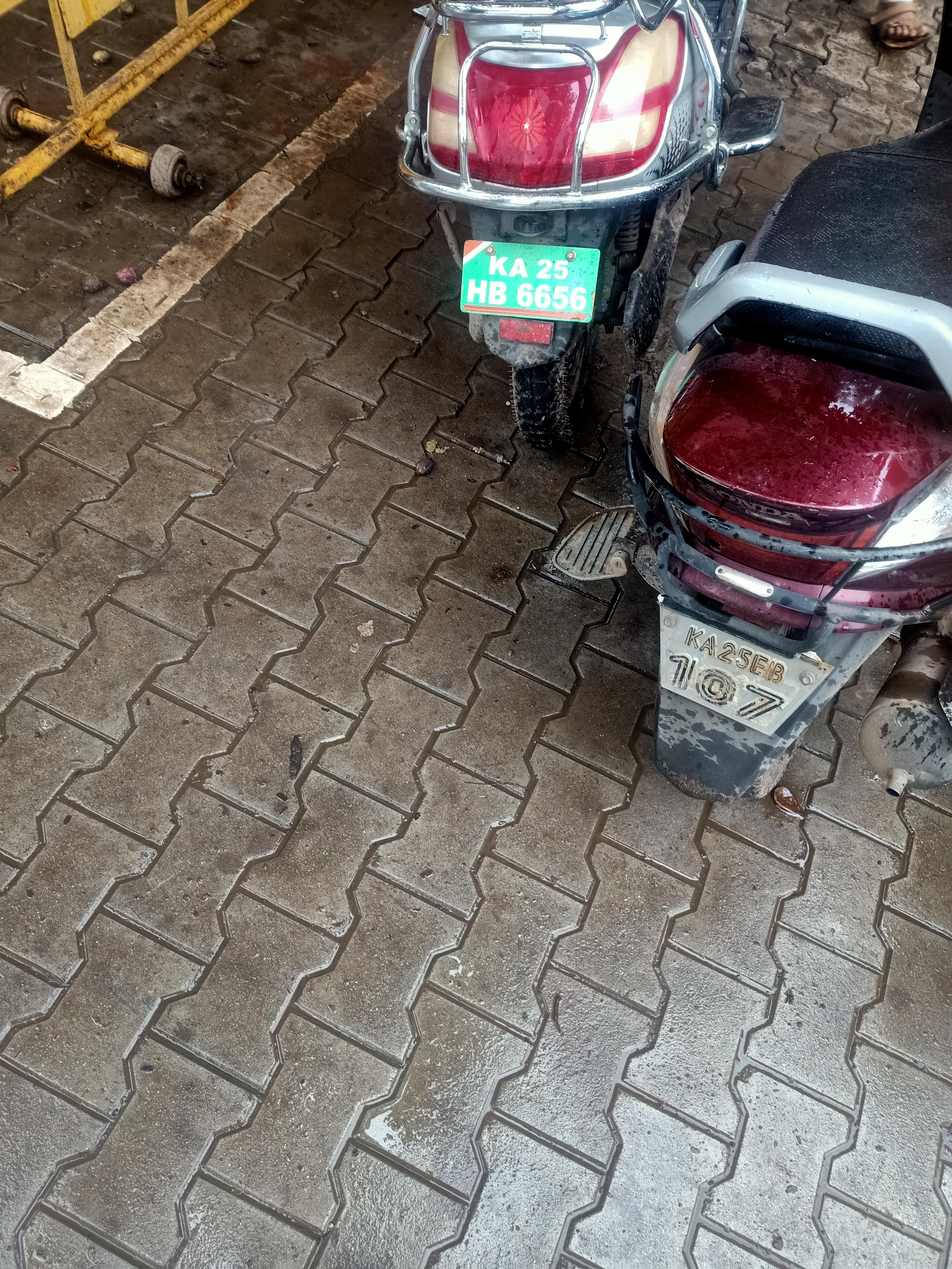green license plate: (457, 234, 598, 332)
